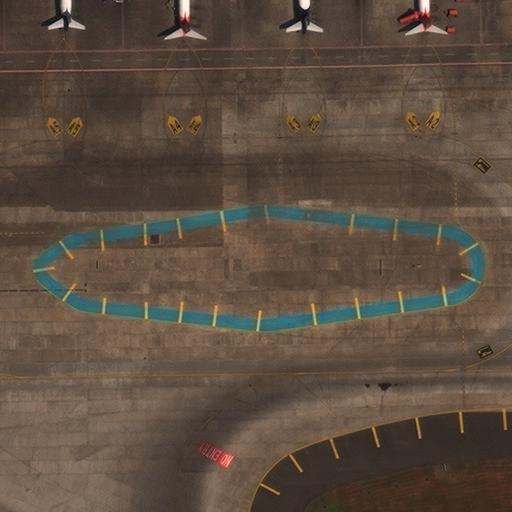Medium Civil Transport: (139, 0, 228, 37), (381, 0, 466, 32), (265, 0, 342, 34), (30, 0, 100, 29)
